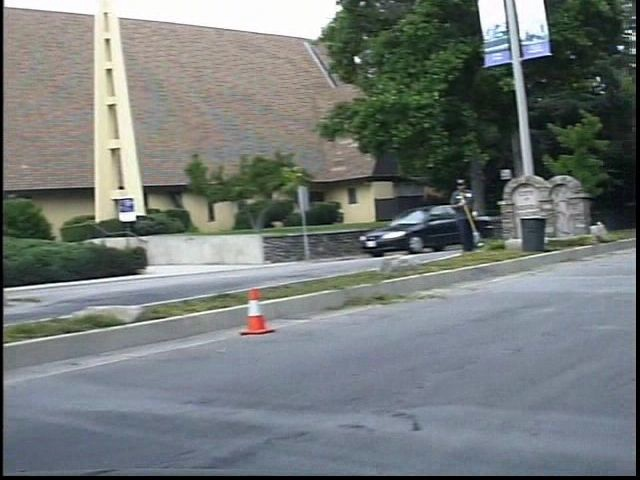person: (461, 175, 495, 256)
